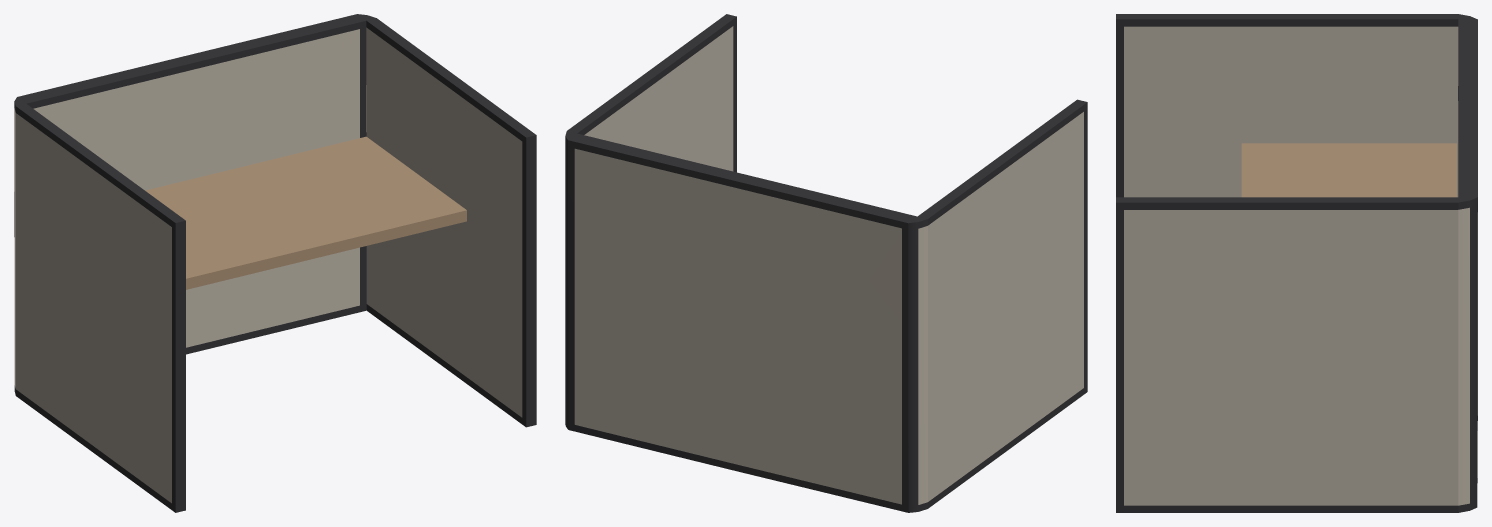
The model's file is 08_divider_full_U_desk.glb.
The picture shows the model from 3 angles, left to right: view 1: azimuth 30°, elevation 25°; view 2: azimuth 150°, elevation 25°; view 3: azimuth 270°, elevation 25°; orthographic projection. The views are drawn at different scales.
Visible parts, largest first — view 1: PartitionDestructible_Part_001_BACK_BACK; view 2: PartitionDestructible_Part_001_BACK_BACK; view 3: PartitionDestructible_Part_001_BACK_BACK.
Part boxes in pixels (bbox=[...]): PartitionDestructible_Part_001_BACK_BACK: bbox=[14, 14, 536, 512]; PartitionDestructible_Part_001_BACK_BACK: bbox=[565, 14, 1087, 512]; PartitionDestructible_Part_001_BACK_BACK: bbox=[1116, 14, 1477, 512].
Size of the model in its own units: 1.96 by 1.5 by 1.59.
